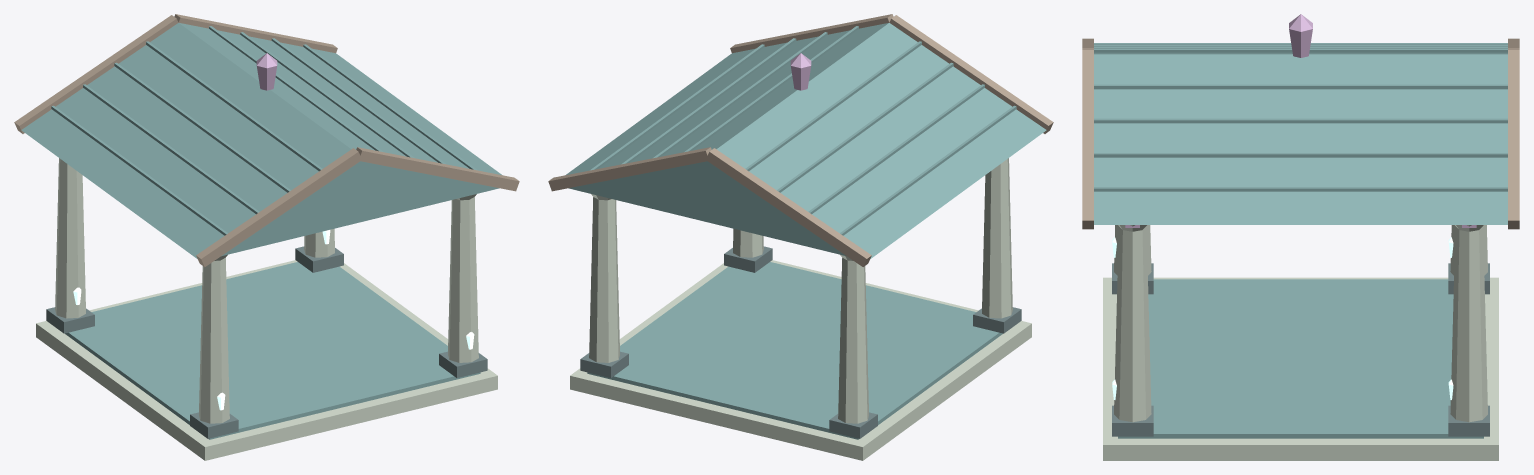
Rendered from runestone-conservatory-open-botanical-pavilion__100.glb.
3 views of the same model, side by side, from view 1: azimuth 30°, elevation 25°; view 2: azimuth 150°, elevation 25°; view 3: azimuth 270°, elevation 25° (orthographic). The views are drawn at different scales.
Visible parts, largest first — view 1: runestone-conservatory-botanical-pavilion; view 2: runestone-conservatory-botanical-pavilion; view 3: runestone-conservatory-botanical-pavilion.
Boxes of the visible parts, bbox=[...] form: runestone-conservatory-botanical-pavilion: bbox=[14, 14, 519, 460]; runestone-conservatory-botanical-pavilion: bbox=[548, 14, 1053, 460]; runestone-conservatory-botanical-pavilion: bbox=[1082, 14, 1519, 460].
Size of the model in its own units: 4.35 by 4.05 by 4.42.
